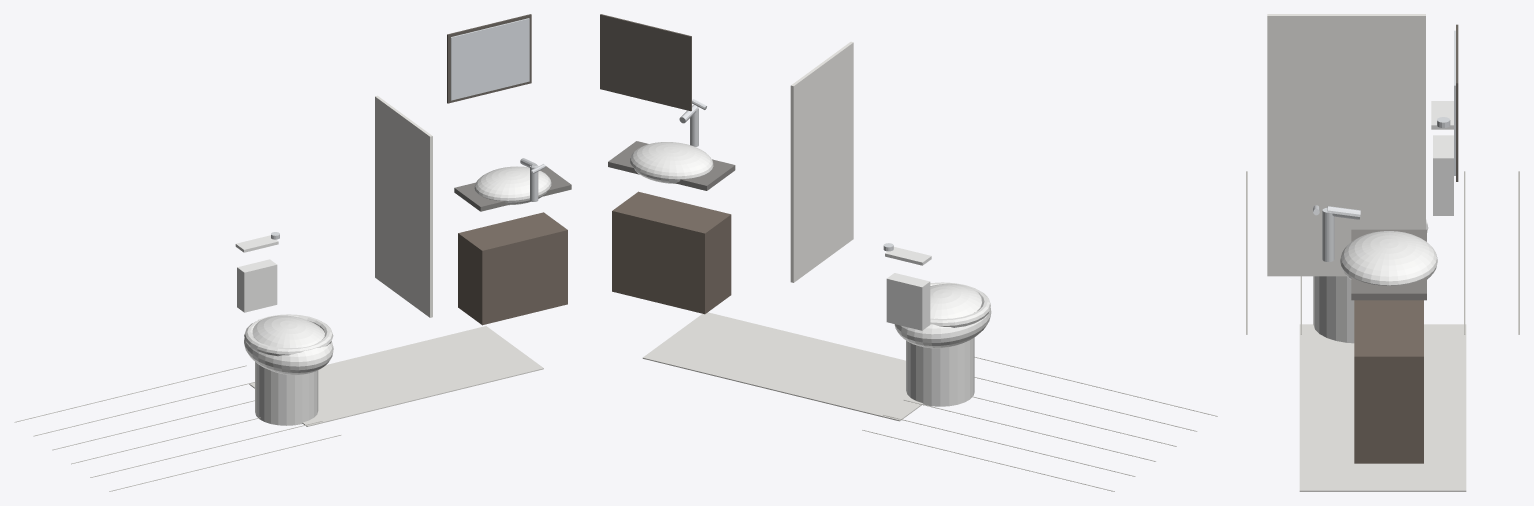
File: bathroom_suite.glb
3 renders of one model, left to right at view 1: azimuth 30°, elevation 25°; view 2: azimuth 150°, elevation 25°; view 3: azimuth 270°, elevation 25°, orthographic. The views are drawn at different scales.
Visible parts, largest first — view 1: bath_floor, partition, vanity_cab, mirror, Sphere, pan_foot, Sphere.001, cistern, seat_ring, vanity_top, mirror_frame; view 2: bath_floor, partition, vanity_cab, mirror_frame, pan_foot, Sphere, Sphere.001, cistern, vanity_top, seat_ring; view 3: partition, bath_floor, vanity_cab, Sphere.001, pan_foot, vanity_top, cistern, basin_tap, cistern_lid, mirror_frame, basin_spout, grout_line (+2 smaller).
Part boxes in pixels (x1,y1,x2,y2): bath_floor: (249, 326, 543, 426); partition: (375, 95, 432, 317); vanity_cab: (458, 212, 567, 325); mirror: (450, 18, 529, 100); Sphere: (244, 315, 333, 375); pan_foot: (255, 362, 318, 425); Sphere.001: (474, 166, 551, 205); cistern: (237, 259, 277, 312); seat_ring: (244, 314, 333, 356); vanity_top: (454, 166, 571, 211); mirror_frame: (447, 14, 531, 103); bath_floor: (642, 312, 923, 421); partition: (790, 41, 853, 282); vanity_cab: (612, 191, 731, 314); mirror_frame: (600, 14, 691, 111); pan_foot: (906, 337, 974, 406); Sphere: (894, 283, 991, 348); Sphere.001: (630, 142, 713, 183); cistern: (886, 273, 930, 330); vanity_top: (608, 141, 735, 190); seat_ring: (930, 282, 990, 327); partition: (1267, 14, 1425, 276); bath_floor: (1299, 324, 1466, 491); vanity_cab: (1354, 300, 1423, 463); Sphere.001: (1340, 231, 1437, 285); pan_foot: (1313, 276, 1354, 343); vanity_top: (1351, 229, 1426, 300); cistern: (1433, 135, 1453, 215); basin_tap: (1322, 208, 1334, 261); cistern_lid: (1431, 101, 1453, 129); mirror_frame: (1456, 24, 1458, 181); basin_spout: (1327, 206, 1360, 219); grout_line: (1246, 171, 1247, 334).
Size of the model in its own units: 2.74 by 1.6 by 0.905.
